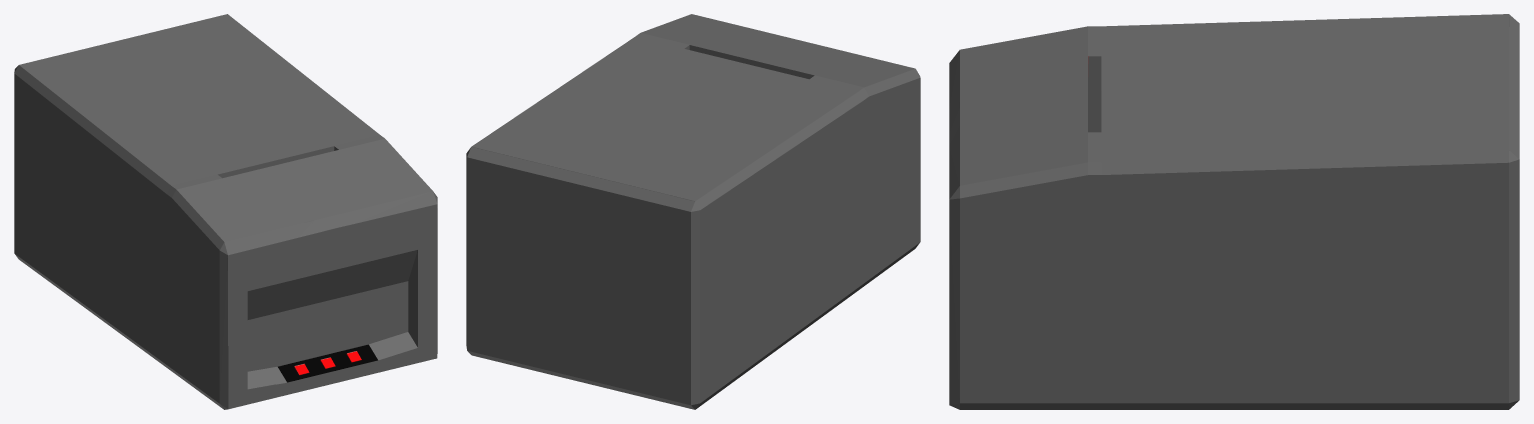
The model's file is MC_TicketMachine.fbx.
The picture shows the model from 3 angles, left to right: view 1: azimuth 30°, elevation 25°; view 2: azimuth 150°, elevation 25°; view 3: azimuth 270°, elevation 25°; orthographic projection. The views are drawn at different scales.
Visible parts, largest first — view 1: Cube; view 2: Cube; view 3: Cube.
Boxes of the visible parts, x1,y1,x2,y2 form: Cube: (14, 14, 437, 409); Cube: (466, 14, 920, 409); Cube: (949, 14, 1519, 409).
Bounding box in the file's own units: 99 × 84.5 × 168.
Materials: 1 (1 with a texture image).
